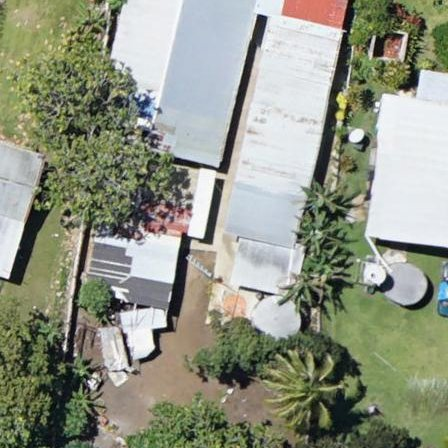palm_tree: (263, 348, 343, 433), (427, 431, 448, 448)
